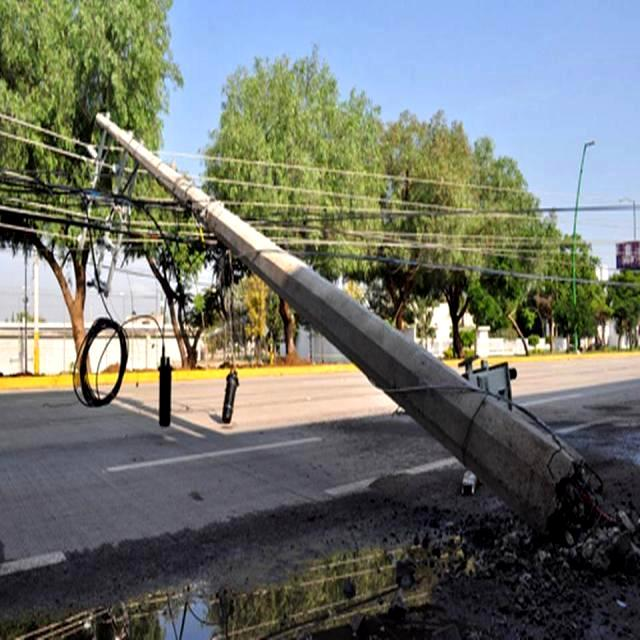Broken Pole: (96, 110, 601, 542)
